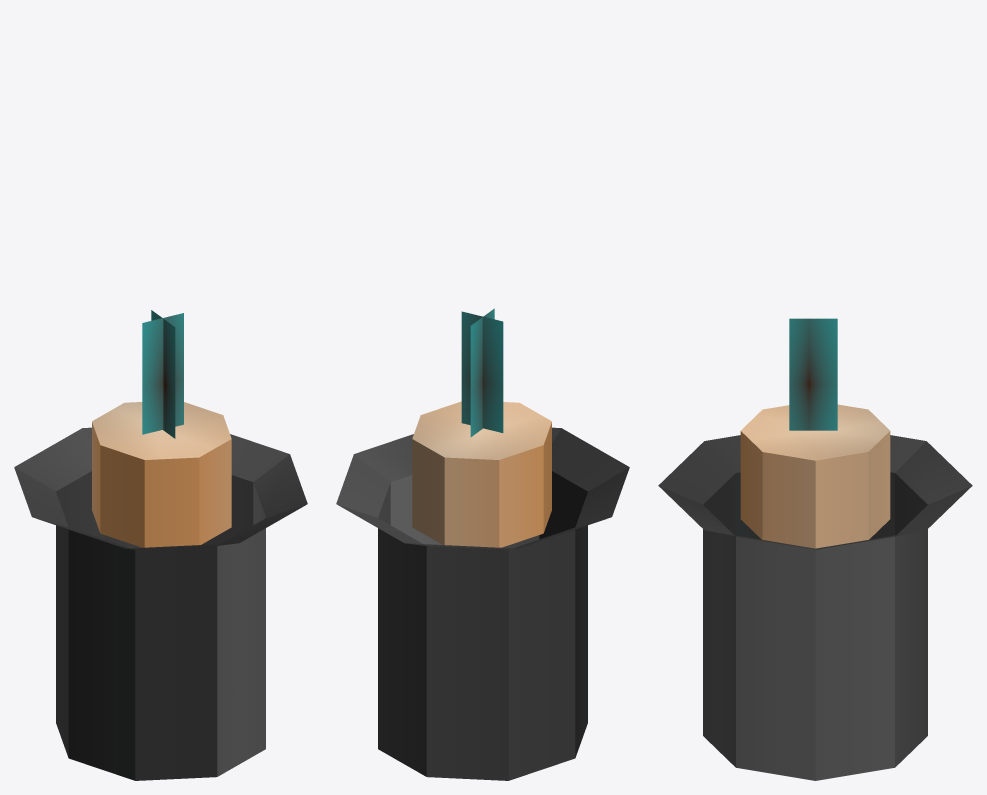
File: candle_336x02.obj
The picture shows the model from 3 angles, left to right: view 1: azimuth 30°, elevation 25°; view 2: azimuth 150°, elevation 25°; view 3: azimuth 270°, elevation 25°; orthographic projection.
Visible parts, largest first — view 1: candle_336x2; view 2: candle_336x2; view 3: candle_336x2.
Part boxes in pixels (bbox=[...]): candle_336x2: bbox=[14, 310, 307, 780]; candle_336x2: bbox=[336, 308, 629, 780]; candle_336x2: bbox=[658, 318, 972, 780].
Bounding box in the file's own units: 0.3802 × 0.9697 × 0.401.
